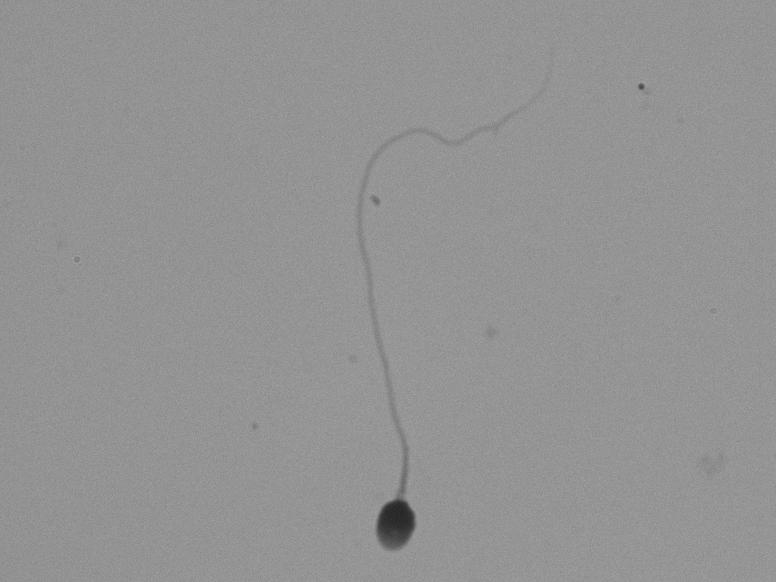Normal: (291, 86, 569, 562)
